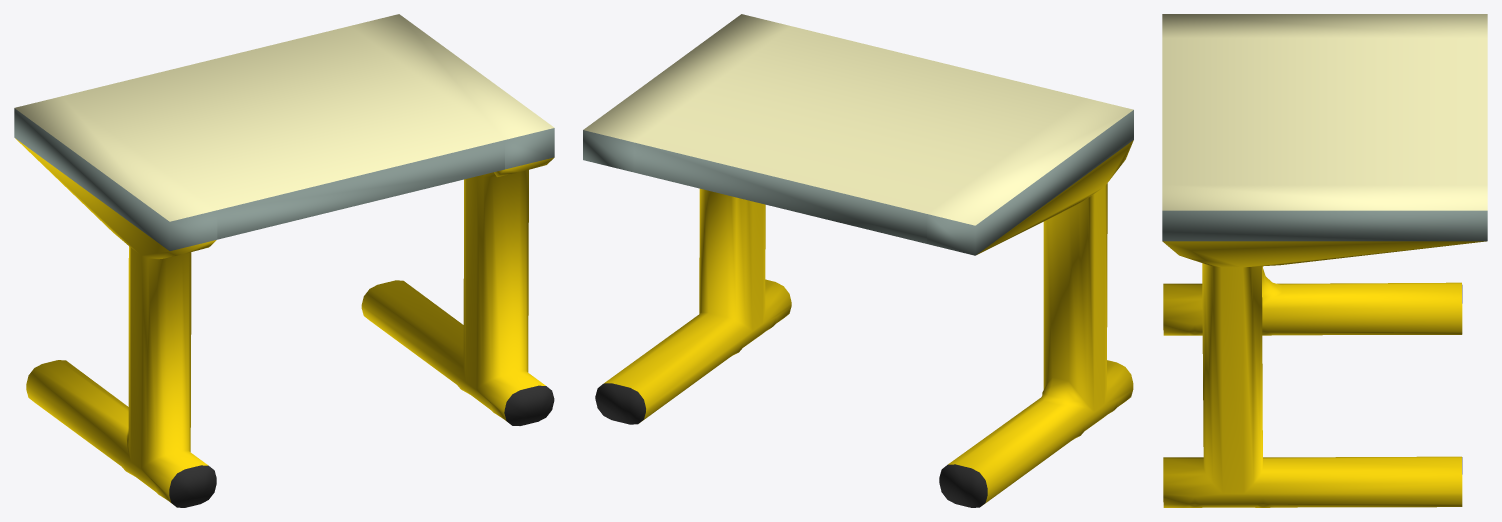
File: table.fbx
3 renders of one model, left to right at view 1: azimuth 30°, elevation 25°; view 2: azimuth 150°, elevation 25°; view 3: azimuth 270°, elevation 25°, orthographic. The views are drawn at different scales.
Parts seen in each view (by area): view 1: table.001; view 2: table.001; view 3: table.001.
Part boxes in pixels (<box>): table.001: <box>14,14,554,507</box>; table.001: <box>583,14,1133,507</box>; table.001: <box>1162,14,1487,507</box>.
Size of the model in its own units: 1.17 by 0.843 by 0.8183.
